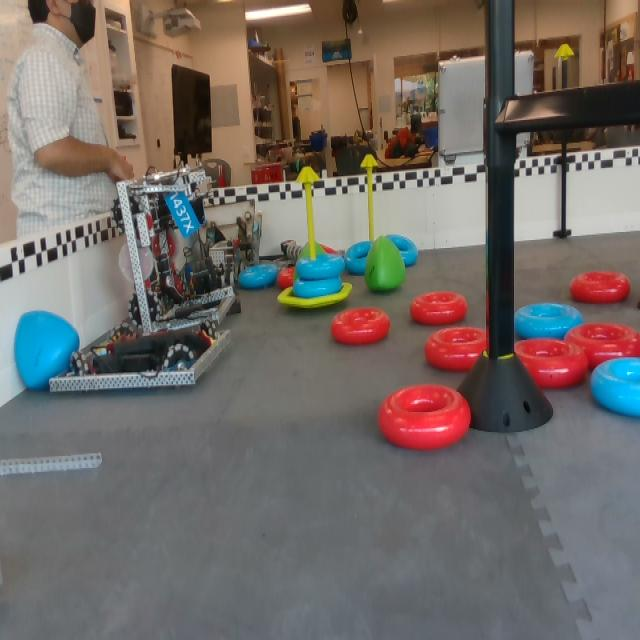Blue-Ring: (591, 357, 639, 416), (515, 303, 584, 339), (296, 255, 347, 280), (385, 233, 419, 268), (237, 263, 279, 290), (292, 278, 344, 299), (344, 240, 375, 275)
Mobile-Goal: (279, 164, 354, 310), (359, 153, 381, 240)
Red-Ring: (379, 385, 472, 450), (516, 336, 588, 385), (563, 324, 639, 370), (426, 326, 486, 372), (569, 270, 631, 305), (332, 307, 391, 343), (411, 291, 468, 324)
Yellow-Stake-Head: (295, 167, 321, 184), (554, 44, 574, 58), (360, 154, 378, 168)
